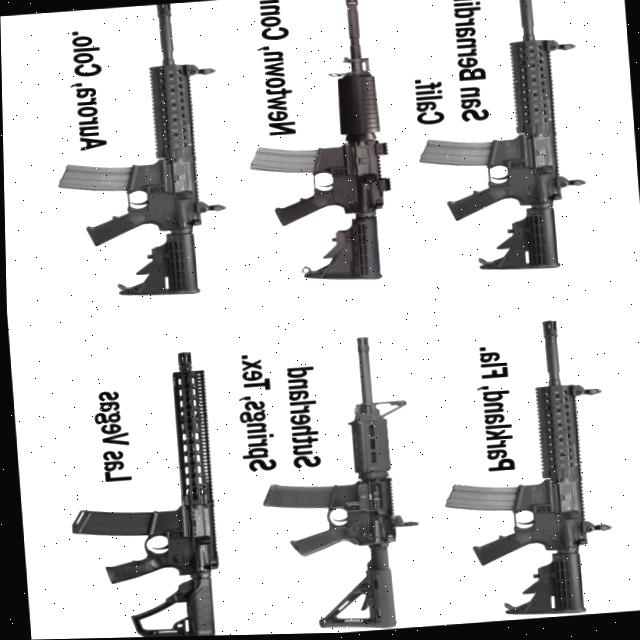firearm: (44, 2, 232, 305), (429, 319, 615, 625), (246, 335, 423, 636), (404, 0, 592, 280), (55, 350, 221, 639), (234, 0, 397, 291)
